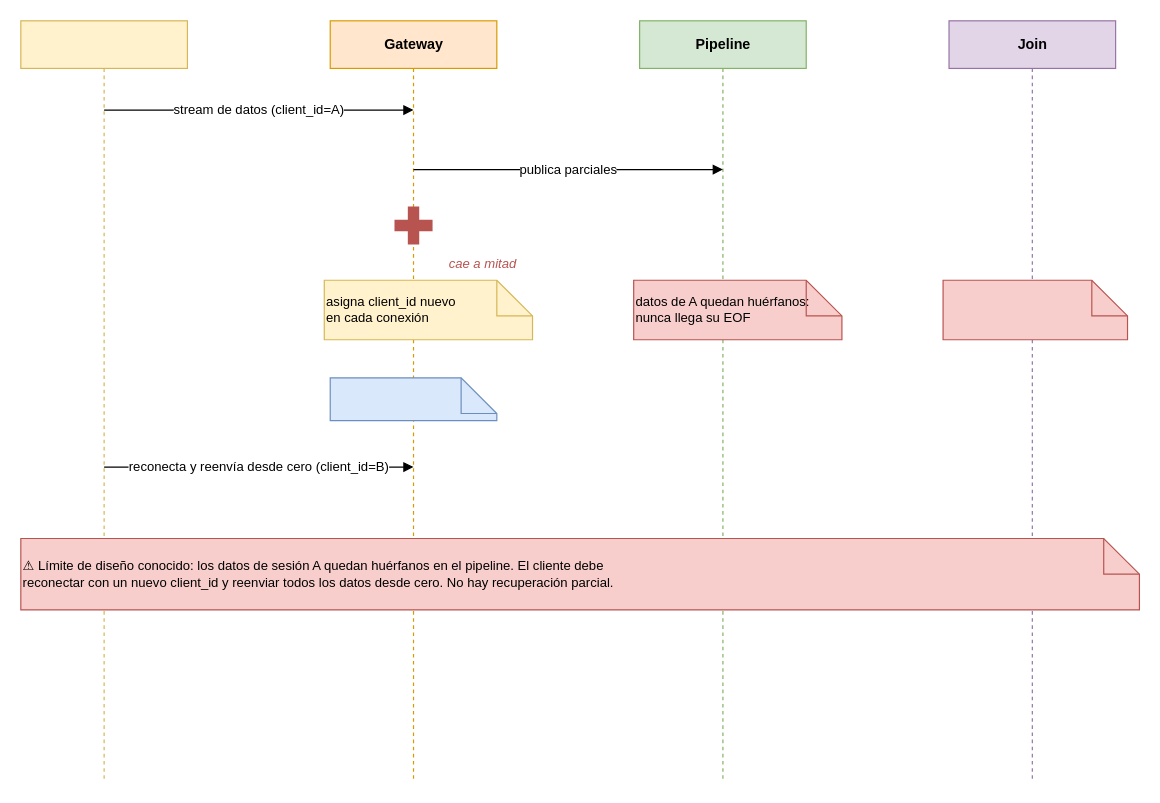
Some shapes in this 1160 by 803 pixel diagram are drawn without their labels. Each missing label, with the box of its shape:
Cliente: (20, 20, 187, 782)
Gateway reinicia: (329, 377, 497, 421)
nunca finaliza la sesión A: (942, 279, 1128, 340)
